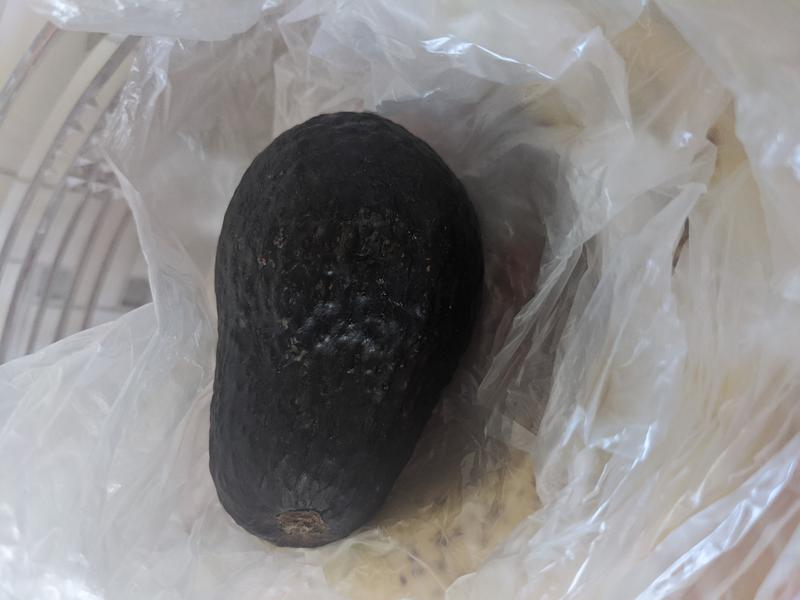avocado: (209, 112, 485, 548)
